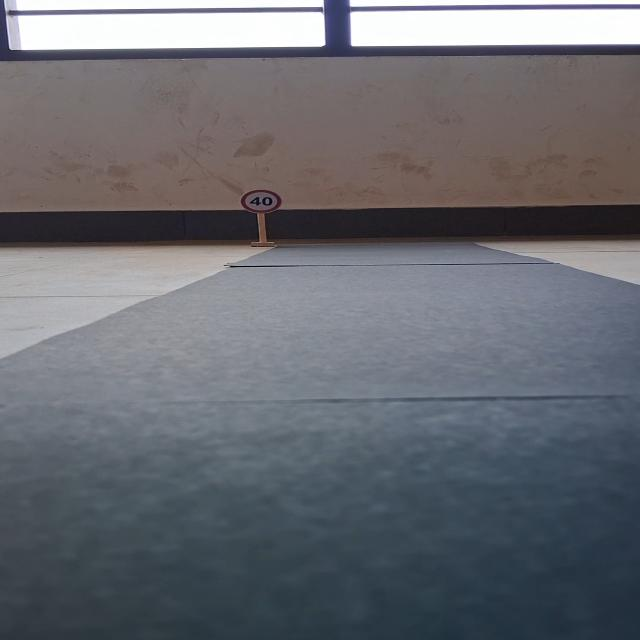Speed40: (229, 185, 291, 217)
